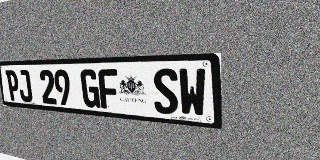2: (39, 70, 57, 104)
9: (53, 69, 72, 106)
F: (98, 69, 120, 110)
G: (80, 69, 101, 108)
J: (17, 70, 33, 102)
P: (5, 70, 21, 101)
S: (152, 68, 179, 115)
W: (178, 68, 207, 118)
